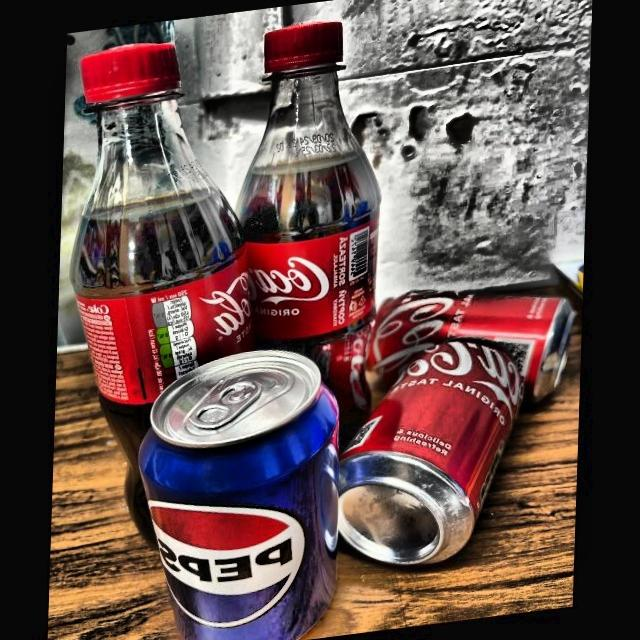coke-bottle: (82, 39, 259, 543), (246, 20, 377, 382)
coke-can: (338, 342, 520, 568), (370, 295, 577, 396), (322, 327, 379, 418)
pepsi-can: (143, 357, 343, 640)
